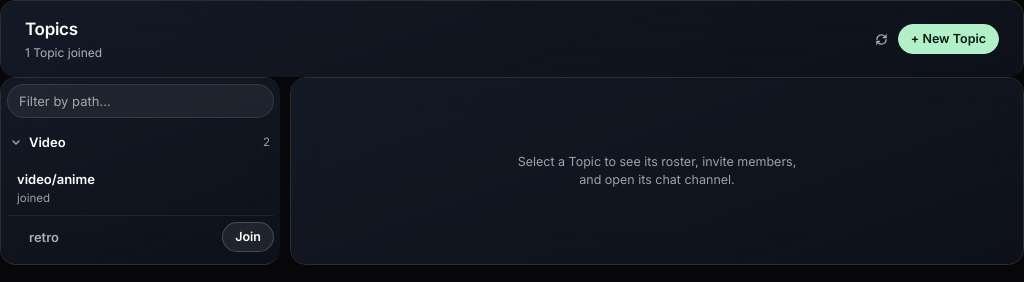
it: QURATOR-149 — the collapse toggle is live in a group with a joined Topic › collapsing a group that holds a joined Topic STAYS collapsed (the chevron is not dead)
Expected: the text "video/anime" is shown, [17,171,95,187]
Click the button with class "root-header" at (47, 142), box [7,124,274,161]
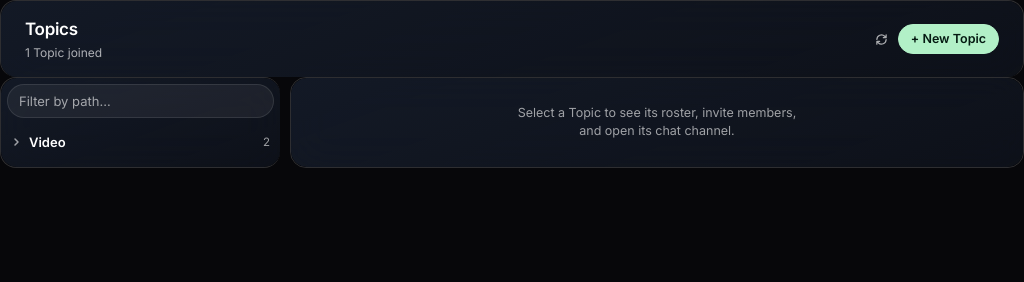
Result: the text "video/anime" is gone
Result: the text "retro" is gone
Note: The control works BOTH ways: expanding redraws the rows.
Click the button with class "root-header" at (47, 142), box [7,124,274,161]
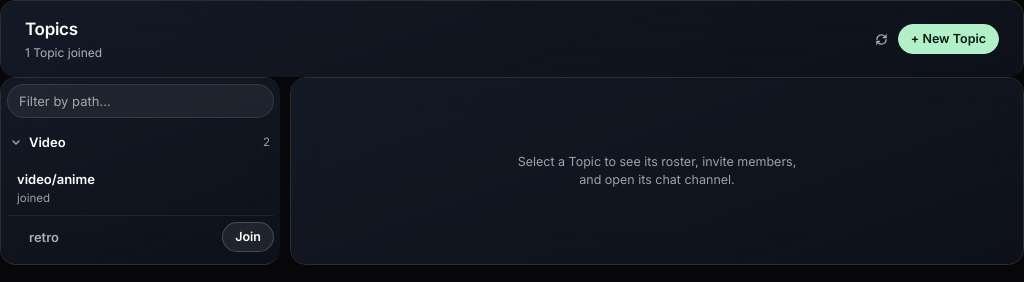
Result: the text "video/anime" is shown at [17,171,95,187]
